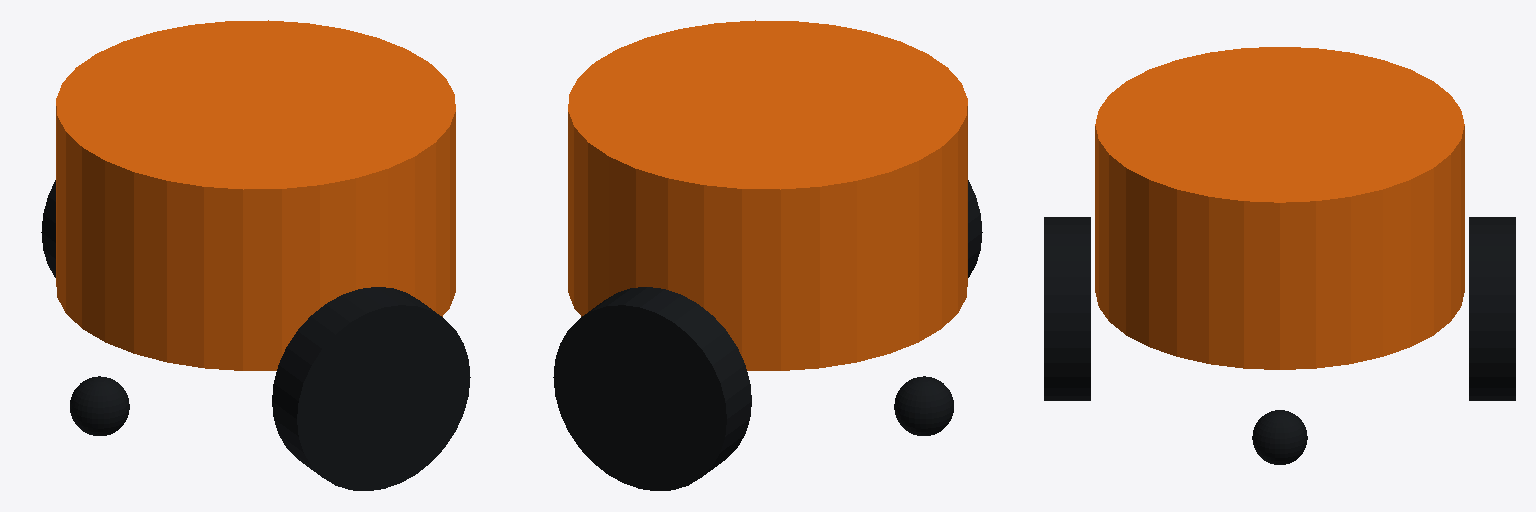
robot.urdf — tiago_base:
<?xml version="1.0"?>
<robot name="tiago_base">
  <material name="tiago_white">
    <color rgba="0.86 0.87 0.88 1.0"/>
  </material>
  <material name="tiago_dark">
    <color rgba="0.12 0.13 0.14 1.0"/>
  </material>
  <material name="tiago_orange">
    <color rgba="0.90 0.45 0.10 1.0"/>
  </material>

  <link name="base_link">
    <visual>
      <origin xyz="0 0 0.22" rpy="0 0 0"/>
      <geometry>
        <cylinder radius="0.20" length="0.20"/>
      </geometry>
      <material name="tiago_orange"/>
    </visual>
    <collision>
      <origin xyz="0 0 0.22" rpy="0 0 0"/>
      <geometry>
        <cylinder radius="0.22" length="0.20"/>
      </geometry>
    </collision>
  </link>

  <link name="base_footprint"/>

  <link name="left_wheel_link">
    <visual>
      <origin xyz="0 0 0" rpy="0 0 0"/>
      <geometry>
        <cylinder radius="0.10" length="0.05"/>
      </geometry>
      <material name="tiago_dark"/>
    </visual>
    <collision>
      <origin xyz="0 0 0" rpy="0 0 0"/>
      <geometry>
        <cylinder radius="0.10" length="0.05"/>
      </geometry>
    </collision>
  </link>

  <link name="right_wheel_link">
    <visual>
      <origin xyz="0 0 0" rpy="0 0 0"/>
      <geometry>
        <cylinder radius="0.10" length="0.05"/>
      </geometry>
      <material name="tiago_dark"/>
    </visual>
    <collision>
      <origin xyz="0 0 0" rpy="0 0 0"/>
      <geometry>
        <cylinder radius="0.10" length="0.05"/>
      </geometry>
    </collision>
  </link>

  <link name="caster_front_link">
    <visual>
      <geometry>
        <sphere radius="0.03"/>
      </geometry>
      <material name="tiago_dark"/>
    </visual>
    <collision>
      <geometry>
        <sphere radius="0.03"/>
      </geometry>
    </collision>
  </link>

  <link name="caster_rear_link">
    <visual>
      <geometry>
        <sphere radius="0.03"/>
      </geometry>
      <material name="tiago_dark"/>
    </visual>
    <collision>
      <geometry>
        <sphere radius="0.03"/>
      </geometry>
    </collision>
  </link>

  <link name="torso_fixed_link">
    <visual>
      <geometry>
        <mesh filename="package://mfja_3rd_floor_description/models/tiago/meshes/torso/torso_fix.stl"/>
      </geometry>
      <material name="tiago_dark"/>
    </visual>
    <collision>
      <geometry>
        <mesh filename="package://mfja_3rd_floor_description/models/tiago/meshes/torso/torso_fix.stl"/>
      </geometry>
    </collision>
  </link>

  <link name="torso_lift_link">
    <visual>
      <geometry>
        <mesh filename="package://mfja_3rd_floor_description/models/tiago/meshes/torso/torso_lift_with_arm.stl"/>
      </geometry>
      <material name="tiago_white"/>
    </visual>
    <collision>
      <geometry>
        <mesh filename="package://mfja_3rd_floor_description/models/tiago/meshes/torso/torso_lift_with_arm.stl"/>
      </geometry>
    </collision>
  </link>

  <joint name="base_footprint_joint" type="fixed">
    <origin xyz="0 0 0" rpy="0 0 0"/>
    <parent link="base_link"/>
    <child link="base_footprint"/>
  </joint>

  <joint name="left_wheel_joint" type="continuous">
    <origin xyz="0 0.23 0.10" rpy="-1.57079632679 0 0"/>
    <parent link="base_link"/>
    <child link="left_wheel_link"/>
    <axis xyz="0 0 1"/>
  </joint>

  <joint name="right_wheel_joint" type="continuous">
    <origin xyz="0 -0.23 0.10" rpy="-1.57079632679 0 0"/>
    <parent link="base_link"/>
    <child link="right_wheel_link"/>
    <axis xyz="0 0 1"/>
  </joint>

  <joint name="caster_front_joint" type="fixed">
    <origin xyz="0.18 0 0.03" rpy="0 0 0"/>
    <parent link="base_link"/>
    <child link="caster_front_link"/>
  </joint>

  <joint name="caster_rear_joint" type="fixed">
    <origin xyz="-0.18 0 0.03" rpy="0 0 0"/>
    <parent link="base_link"/>
    <child link="caster_rear_link"/>
  </joint>

  <joint name="base_to_torso_fixed" type="fixed">
    <origin xyz="-0.062 0 0.193" rpy="0 0 0"/>
    <parent link="base_link"/>
    <child link="torso_fixed_link"/>
  </joint>

  <joint name="torso_lift_joint" type="prismatic">
    <origin xyz="0 0 0.597" rpy="0 0 0"/>
    <parent link="torso_fixed_link"/>
    <child link="torso_lift_link"/>
    <axis xyz="0 0 1"/>
    <limit lower="0.0" upper="0.35" effort="2000.0" velocity="0.07"/>
  </joint>

</robot>

--- What the picture shows (computed from the rendered views, not written in the file) ---
3 views of the same robot in one strip: view 1: azimuth 30°, elevation 25°; view 2: azimuth 150°, elevation 25°; view 3: azimuth 270°, elevation 25° (orthographic).
Robot: tiago_base — 8 links, 7 joints (2 continuous, 1 prismatic, 4 fixed); root link base_link; default pose: all joints at 0.
Visible links, largest first — view 1: base_link, right_wheel_link, caster_rear_link, left_wheel_link; view 2: base_link, left_wheel_link, caster_rear_link, right_wheel_link; view 3: base_link, left_wheel_link, right_wheel_link, caster_front_link.
Link boxes in pixels (bbox=[...]): base_link: bbox=[56, 20, 455, 370]; right_wheel_link: bbox=[272, 287, 470, 490]; caster_rear_link: bbox=[70, 376, 129, 435]; left_wheel_link: bbox=[41, 180, 55, 277]; base_link: bbox=[568, 20, 967, 370]; left_wheel_link: bbox=[553, 287, 751, 490]; caster_rear_link: bbox=[894, 376, 953, 435]; right_wheel_link: bbox=[968, 180, 982, 277]; base_link: bbox=[1095, 47, 1464, 369]; left_wheel_link: bbox=[1469, 217, 1515, 400]; right_wheel_link: bbox=[1044, 217, 1090, 400]; caster_front_link: bbox=[1252, 410, 1307, 464].
Bounding box of the posed robot: 0.42 × 0.51 × 0.32 m (x, y, z).
0 mesh visuals loaded from 2 distinct referenced files (none loaded); not drawn: 2 (reference not matched to a file when rendering).
